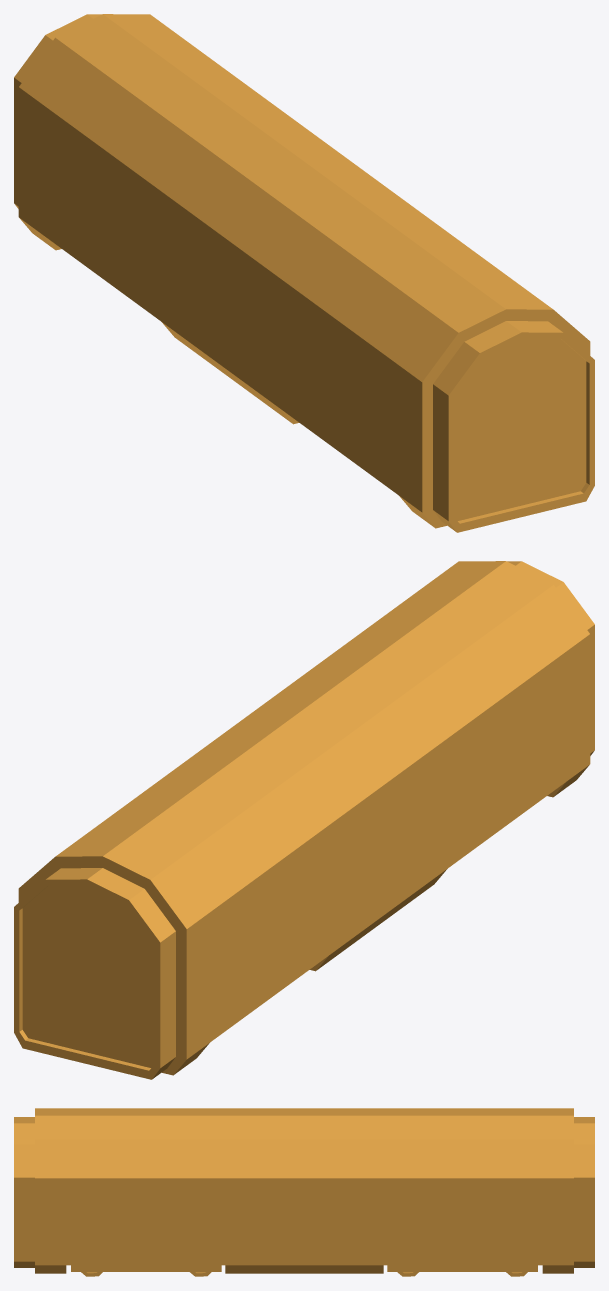
Rendered from train-speed-wagon.glb.
The picture shows the model from 3 angles, top to bottom: view 1: azimuth 30°, elevation 25°; view 2: azimuth 150°, elevation 25°; view 3: azimuth 270°, elevation 25°; orthographic projection. The views are drawn at different scales.
Visible parts, largest first — view 1: train-speed-wagon-base; view 2: train-speed-wagon-base; view 3: train-speed-wagon-base, train-speed-wagon-wheel-frame_F, train-speed-wagon-wheel-frame_B.
Boxes of the visible parts, x1,y1,x2,y2 form: train-speed-wagon-base: [14, 14, 594, 532]; train-speed-wagon-base: [14, 561, 594, 1079]; train-speed-wagon-base: [14, 1108, 594, 1273]; train-speed-wagon-wheel-frame_F: [71, 1265, 221, 1271]; train-speed-wagon-wheel-frame_B: [387, 1265, 537, 1271].
Bounding box in the file's own units: 3.1 × 3.92 × 13.89.
